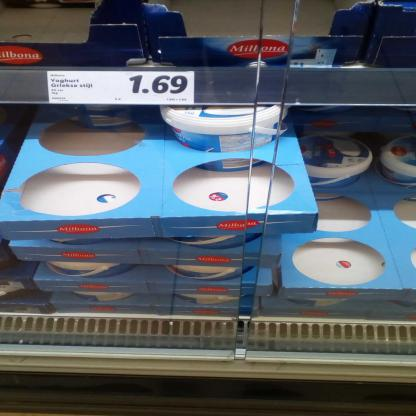prtg: (48, 72, 196, 106)
